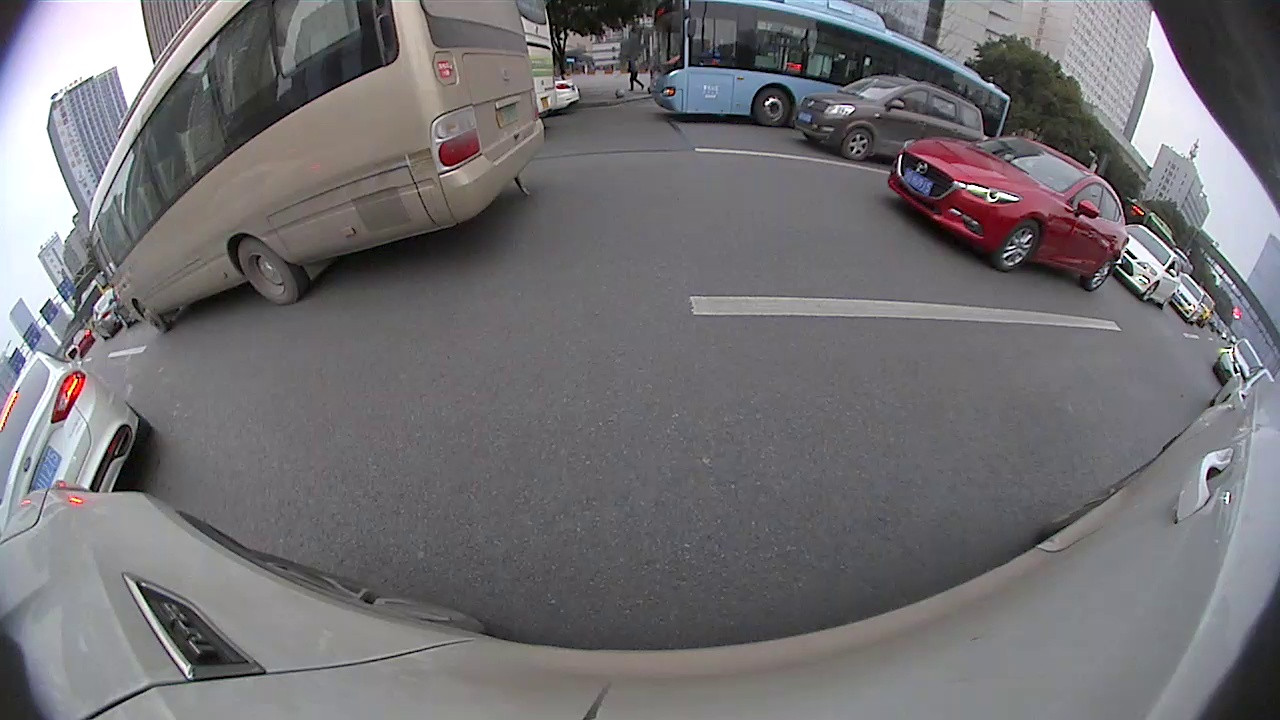bus: (91, 1, 543, 330), (645, 2, 1008, 121)
car: (888, 138, 1125, 291), (1, 353, 148, 535), (792, 73, 983, 158), (1118, 227, 1176, 308)
front: (998, 217, 1042, 272), (754, 87, 793, 128), (843, 125, 873, 163), (135, 301, 168, 335), (1143, 279, 1159, 300)
rear: (236, 235, 305, 305), (1085, 260, 1112, 294)
